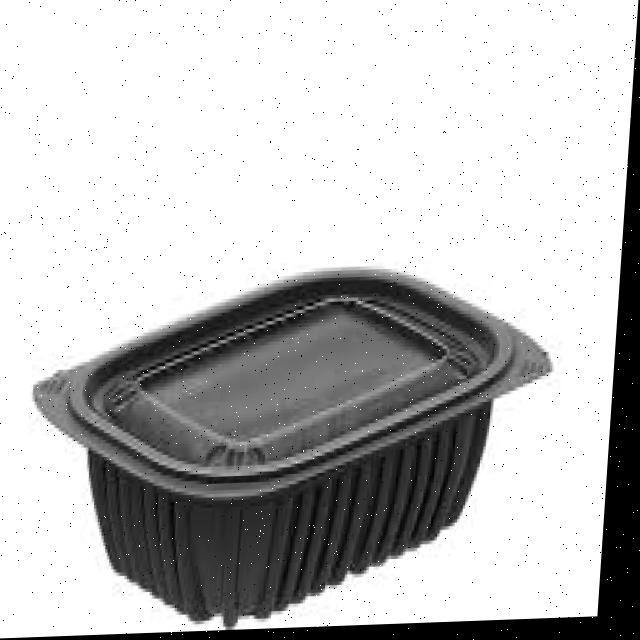disposable: (46, 222, 552, 625)
